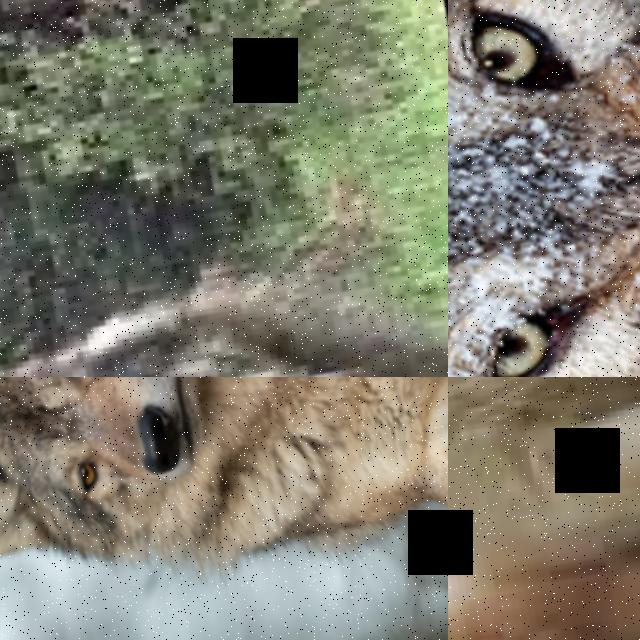dog: (448, 377, 640, 637), (448, 509, 640, 640)
wolf: (0, 377, 448, 640), (0, 208, 448, 377), (448, 0, 640, 377)
